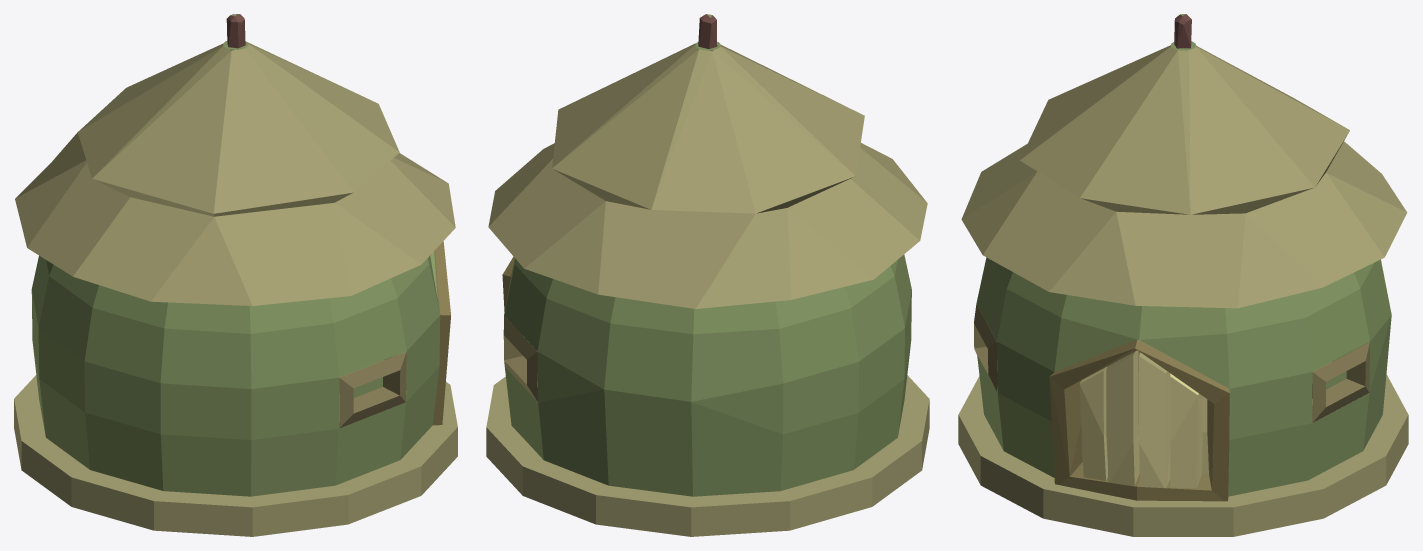
The model's file is hut.fbx.
3 views of the same model, side by side, from view 1: azimuth 30°, elevation 25°; view 2: azimuth 150°, elevation 25°; view 3: azimuth 270°, elevation 25° (orthographic).
Visible parts, largest first — view 1: Cylinder.002, Cylinder, Cylinder.001, Window, DoorOuter; view 2: Cylinder.002, Cylinder, Cylinder.001, Window; view 3: Cylinder.002, Cylinder, Cylinder.001, DoorInner, DoorOuter, Window.
Boxes of the visible parts, x1=… form: Cylinder.002: x1=15, y1=42, x2=455, y2=305; Cylinder: x1=31, y1=14, x2=440, y2=496; Cylinder.001: x1=14, y1=360, x2=457, y2=536; Window: x1=339, y1=351, x2=406, y2=428; DoorOuter: x1=392, y1=241, x2=450, y2=425; Cylinder.002: x1=488, y1=43, x2=927, y2=308; Cylinder: x1=504, y1=14, x2=911, y2=496; Cylinder.001: x1=486, y1=375, x2=929, y2=536; Window: x1=503, y1=316, x2=537, y2=401; Cylinder.002: x1=961, y1=45, x2=1407, y2=308; Cylinder: x1=976, y1=14, x2=1391, y2=496; Cylinder.001: x1=958, y1=340, x2=1408, y2=536; DoorInner: x1=1079, y1=350, x2=1208, y2=488; DoorOuter: x1=1049, y1=339, x2=1229, y2=501; Window: x1=974, y1=304, x2=1369, y2=422.
Size of the model in its own units: 195 by 211 by 200.
